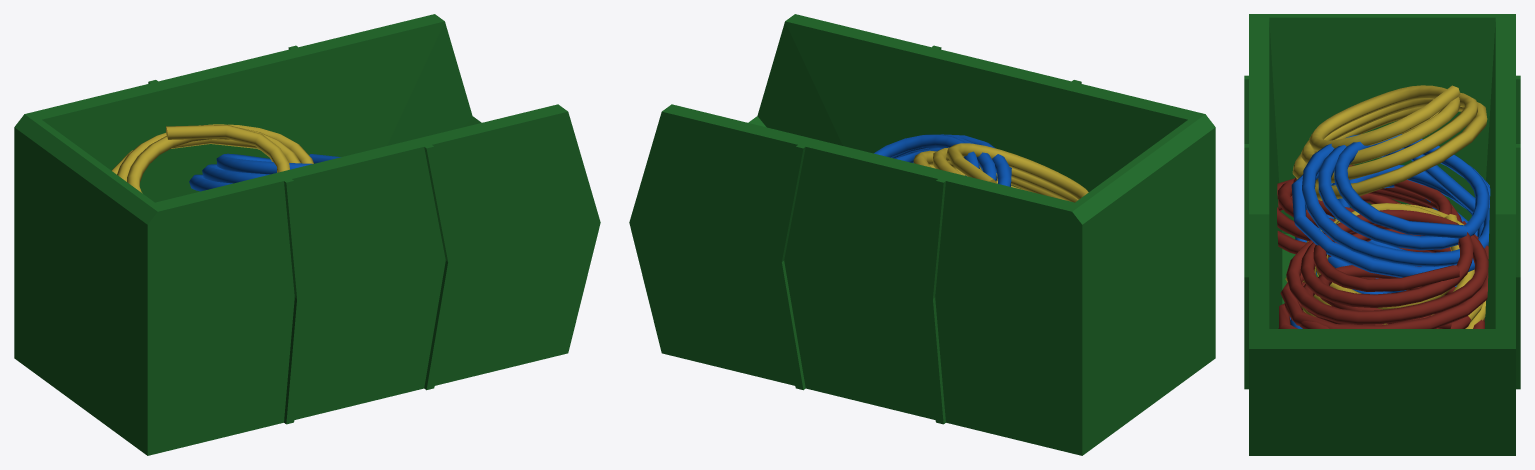
Rendered from BoxWithWires_Green.fbx.
3 views of the same model, side by side, from view 1: azimuth 30°, elevation 25°; view 2: azimuth 150°, elevation 25°; view 3: azimuth 270°, elevation 25° (orthographic).
Parts seen in each view (by area): view 1: BoxWithWires_Green; view 2: BoxWithWires_Green; view 3: BoxWithWires_Green.
Part boxes in pixels (x1,y1,x2,y2): BoxWithWires_Green: (14,14,600,455); BoxWithWires_Green: (629,14,1215,455); BoxWithWires_Green: (1244,14,1520,455).
Size of the model in its own units: 392 by 200 by 207.
